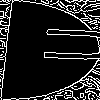U: (25, 25, 100, 64)
